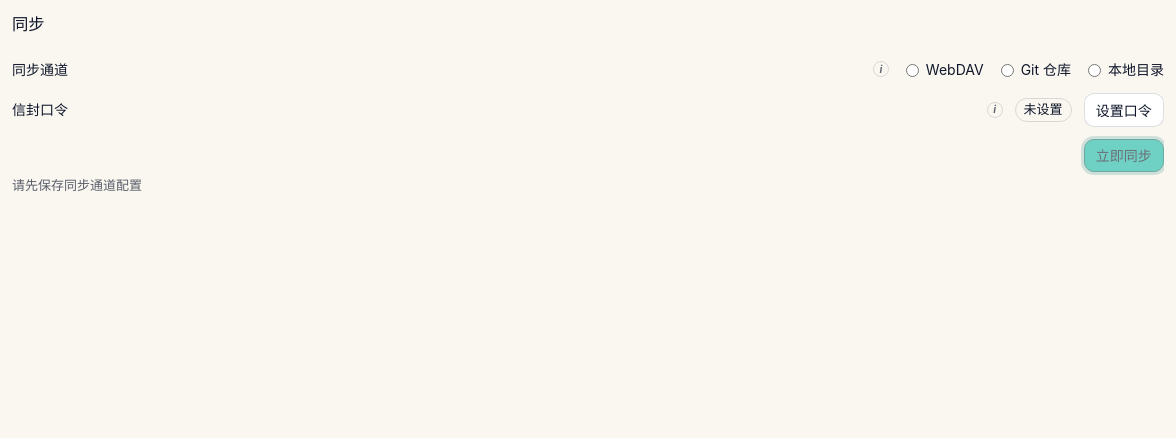
it: SyncSettings › webdav 测试连接：代理命令 2xx/404 → 连接正常；401 → 连接失败（走 Rust 代理路径）
Click the radio button with test id "sync-channel-webdav": point(912, 71) [906,64,919,77]
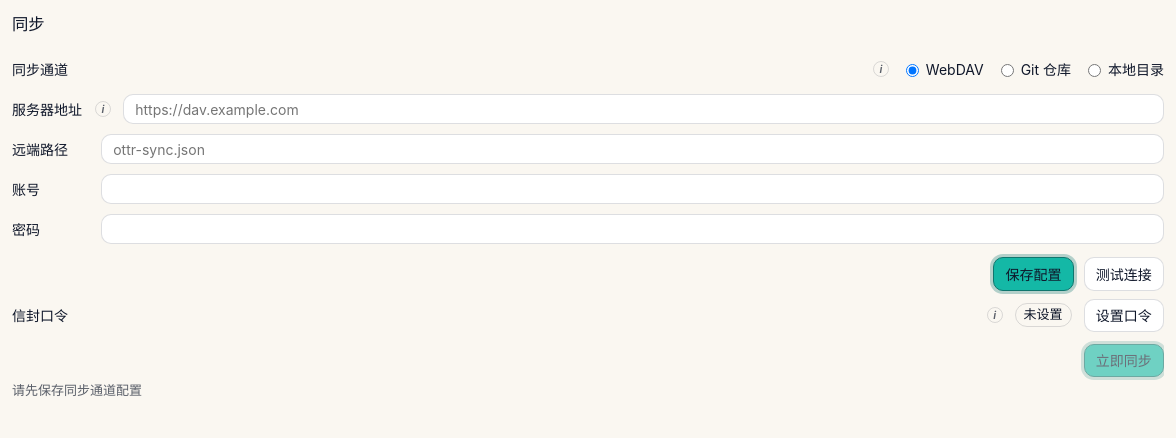
In the field with test id "sync-webdav-server": point(644, 109) [123,94,1164,124], type "https://dav.x"
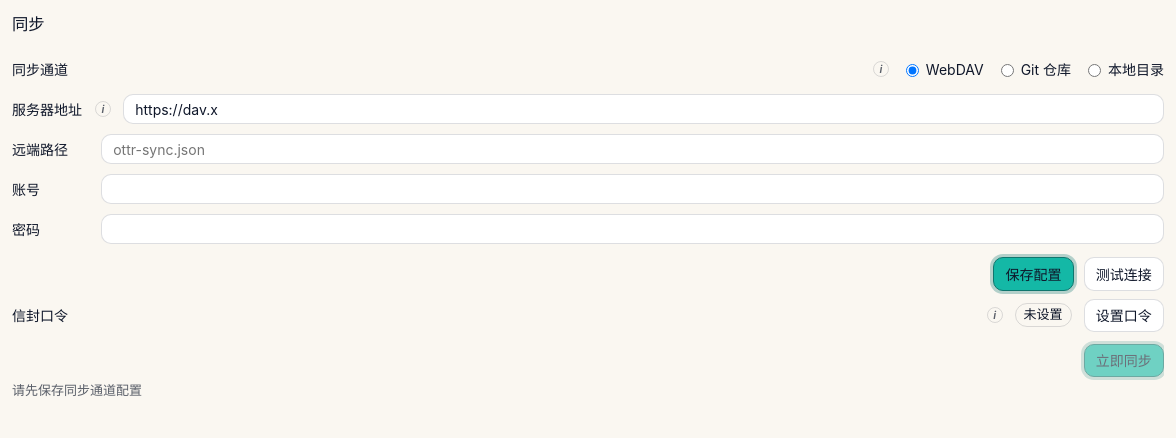
Click the button with test id "sync-test": point(1124, 274) [1084,257,1164,290]
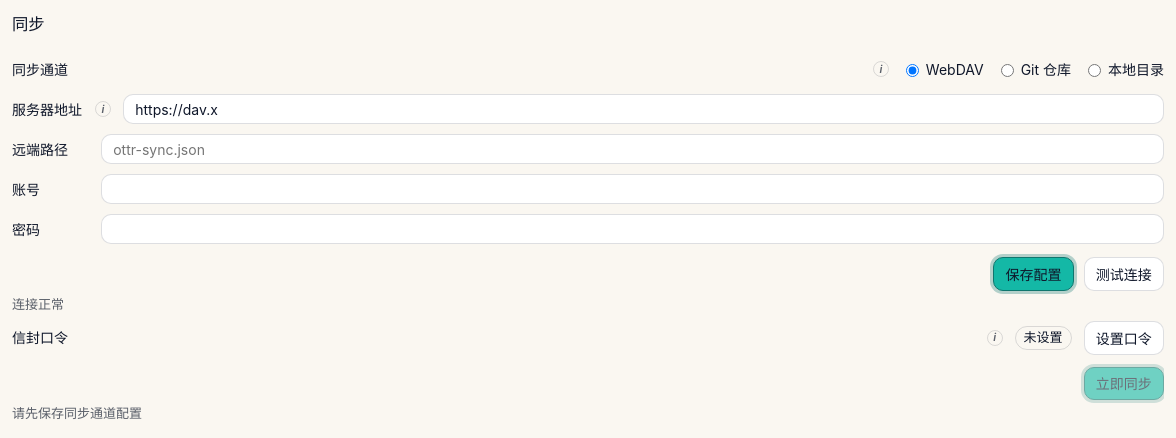
expect the text with test id "sync-test-result" reads "连接正常": met, box [12,296,64,312]
Click the button with test id "sync-test": point(1124, 274) [1084,257,1164,290]
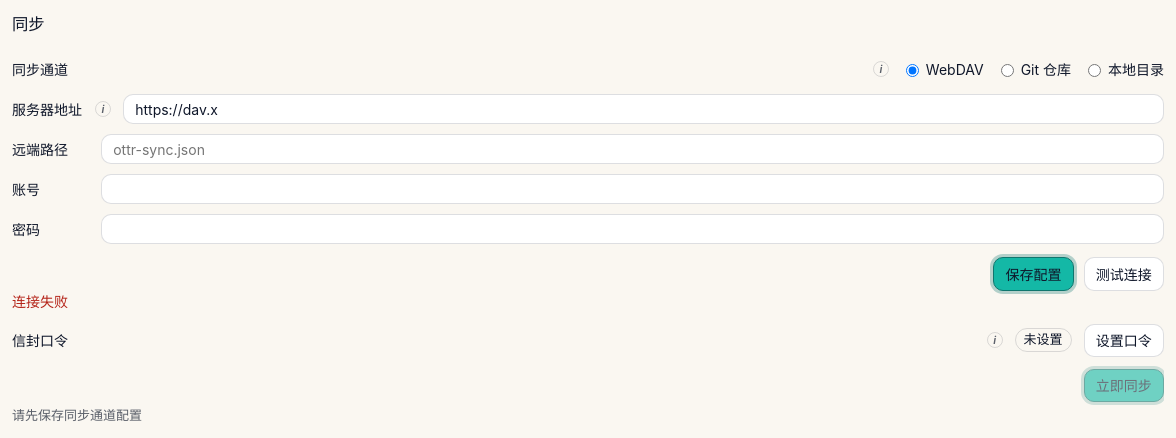
expect the text with test id "sync-test-result" reads "连接失败": met, box [12,292,68,310]
